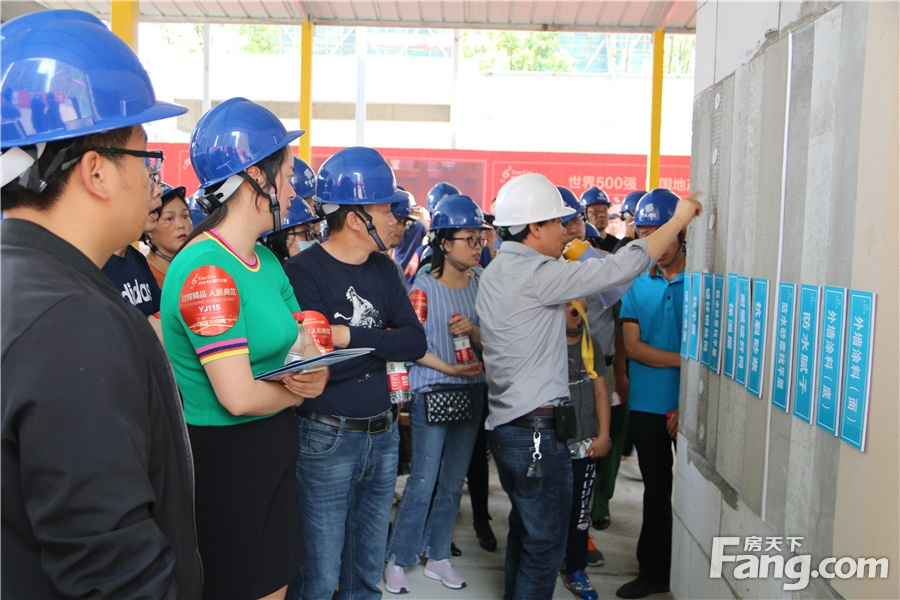blue: (1, 7, 165, 262), (190, 96, 295, 237), (314, 147, 397, 255), (427, 194, 483, 267), (144, 180, 193, 259), (634, 191, 683, 267), (551, 187, 585, 248), (581, 185, 611, 232)
white: (487, 169, 569, 261)
